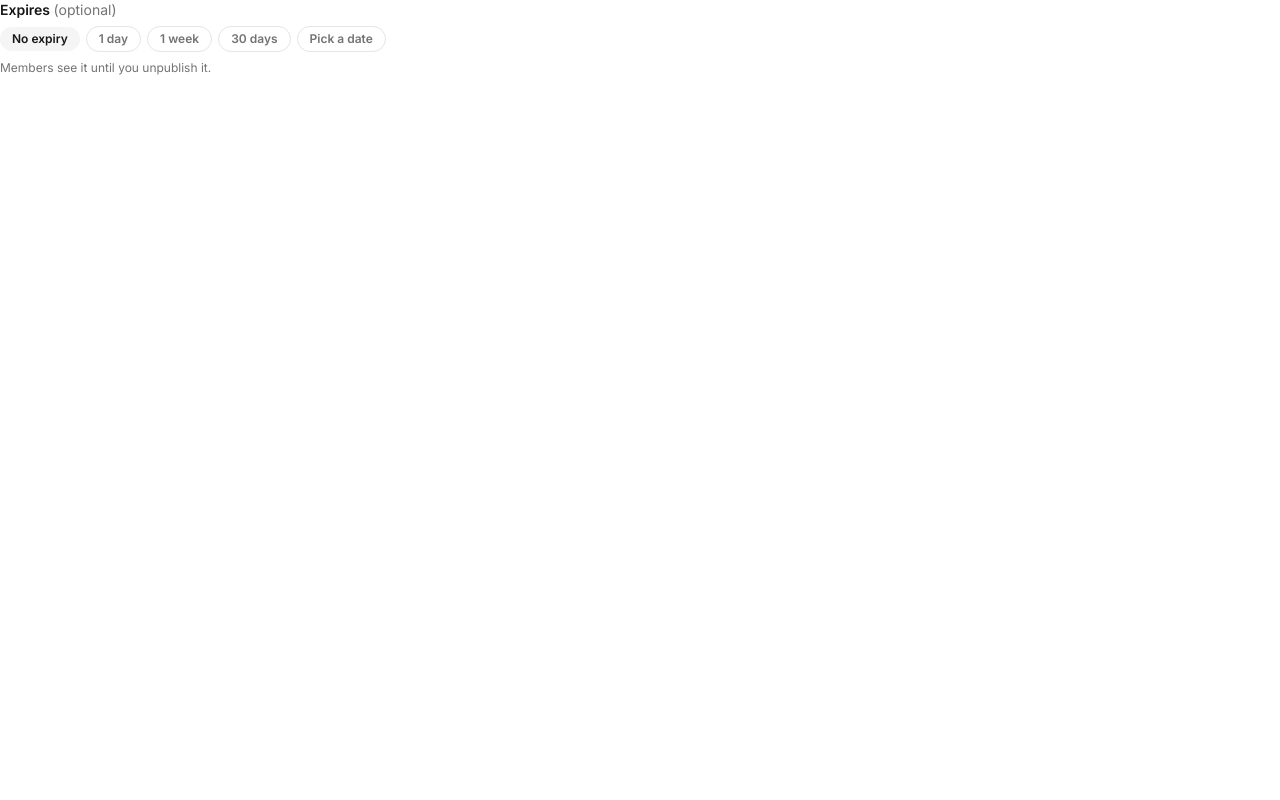
Test: AnnouncementExpiryField › picks a day from the calendar, which will not offer a past one
Click the radio button labelled "Pick a date" at (341, 39), box [296,26,386,52]
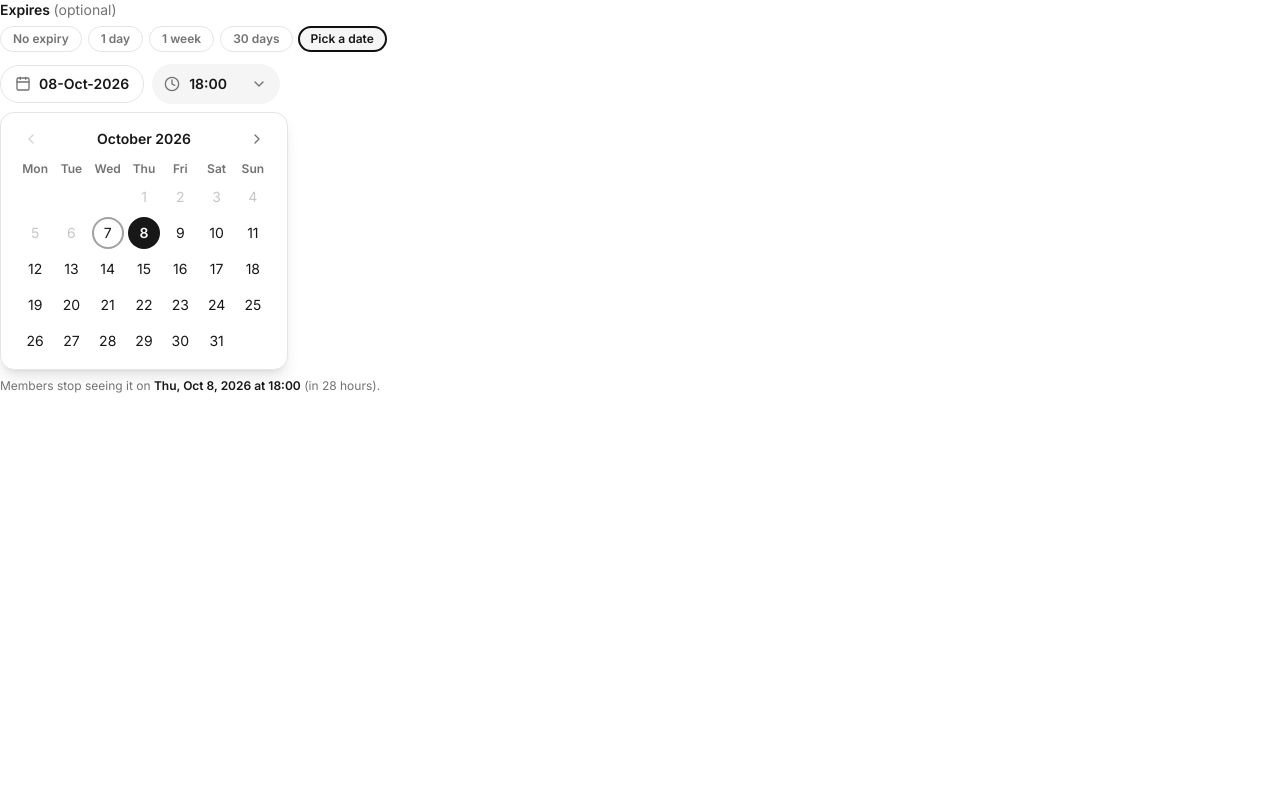
Expected: the dialog named "Pick an expiry date" is shown, [0,112,288,370]
Expected: the button named "06-Oct-2026" is disabled, [55,217,87,249]
Click the button named "20-Oct-2026" at (71, 305), box [55,289,87,321]
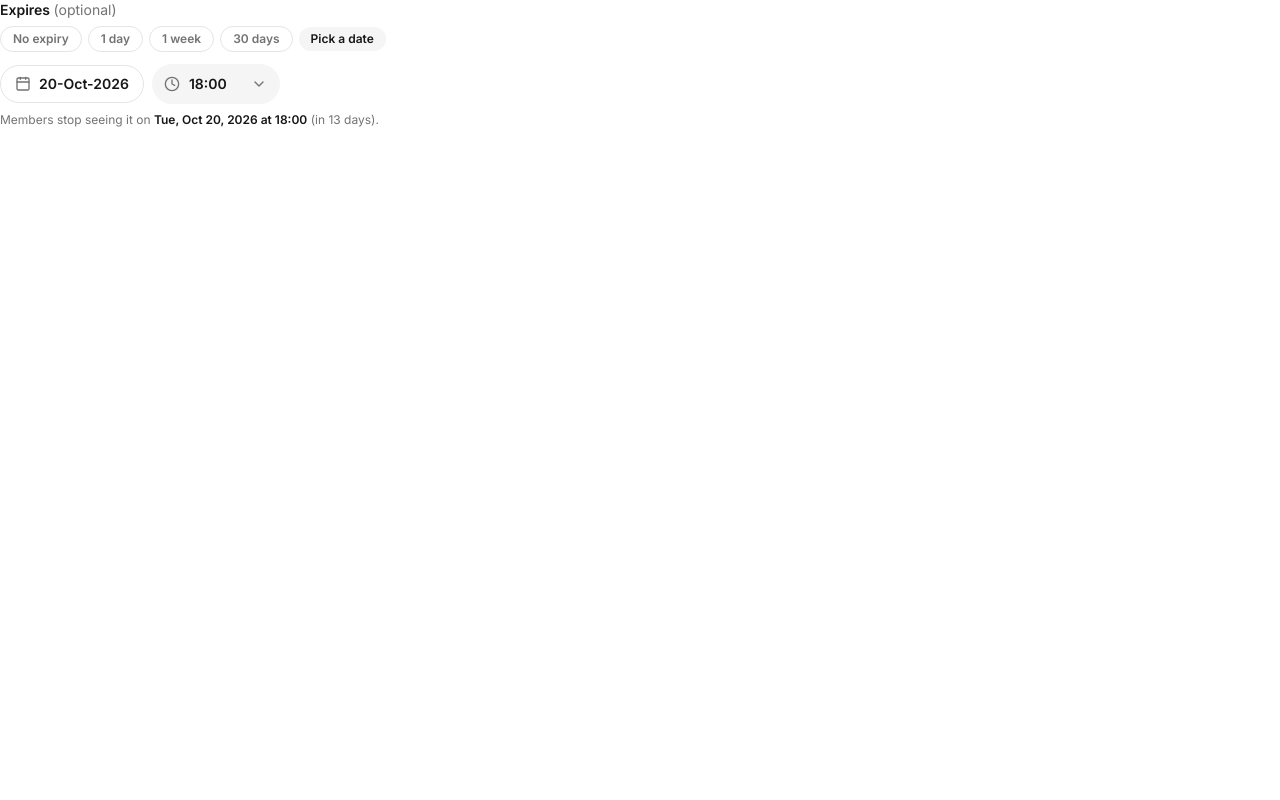
Expected: the dialog is gone
